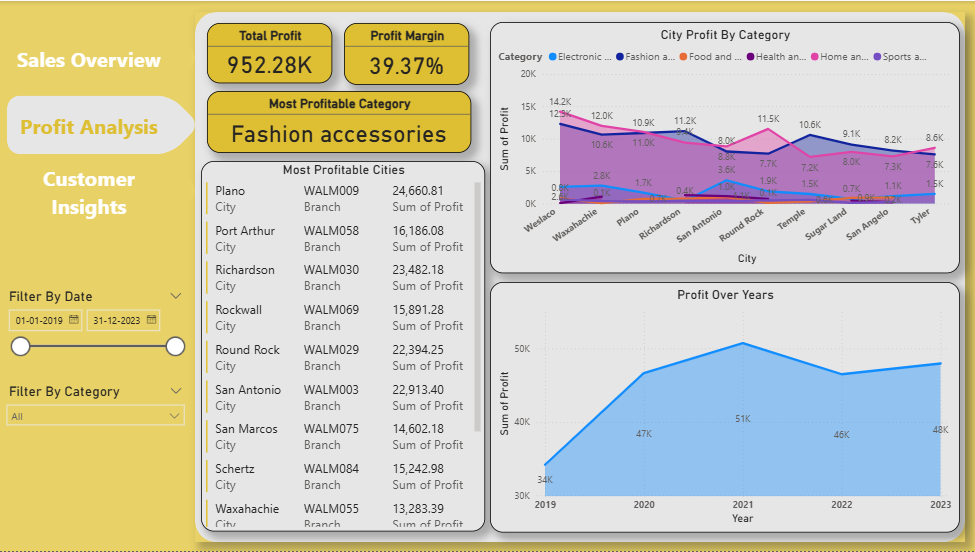

The dashboard page shown, as its layout file describes it:
{"tool":"powerbi","page":{"name":"Profit Analysis","canvas":[1280,720],"ordinal":1},"visuals":[{"type":"shape","box":[256.3,14.4,1008,694.1],"z":0},{"type":"card","title":"Total Profit","fields":{"Values":["Sum(walmart_db walmart_pro.Profit)"]},"box":[271.7,28.6,164,78.7],"z":1000},{"type":"card","title":"Profit Margin","fields":{"Values":["Avg(walmart_db walmart_pro.profit_margin)"]},"box":[452.2,28.8,164,80.6],"z":2000},{"type":"card","title":"Most Profitable Category","fields":{"Values":["Min(walmart_db walmart_pro.category)"]},"box":[272.2,118.1,345.6,80.6],"z":3000},{"type":"multiRowCard","title":"Most Profitable Cities","fields":{"Values":["walmart_db walmart_pro.City","walmart_db walmart_pro.Branch","Sum(walmart_db walmart_pro.Profit)"]},"box":[265,208.8,372,485.3],"z":4000},{"type":"areaChart","title":"City Profit By Category","fields":{"Y":["Sum(walmart_db walmart_pro.Profit)"],"Series":["walmart_db walmart_pro.category"],"Category":["walmart_db walmart_pro.City"]},"box":[642.2,27.4,614.9,329],"z":5000},{"type":"pageNavigator","box":[10.7,37.1,253.9,252],"z":6000},{"type":"slicer","fields":{"Values":["walmart_db walmart_pro.date"]},"box":[4.3,372.5,246.2,145.4],"z":7000},{"type":"slicer","fields":{"Values":["walmart_db walmart_pro.category"]},"box":[3.6,497.3,246.7,75.1],"z":8000},{"type":"stackedAreaChart","title":"Profit Over Years","fields":{"Category":["walmart_db walmart_pro.year"],"Y":["Sum(walmart_db walmart_pro.Profit)"]},"box":[642.2,367.2,614.9,328.3],"z":9000}]}

Visuals, with their boxes in screenshot pixels (x1, y1, x2, y2), scaled from the page's 1280x720 canvas onto the 975x552 screenshot:
shape: 195,11,963,543
"Total Profit" card: 207,22,332,82
"Profit Margin" card: 344,22,469,84
"Most Profitable Category" card: 207,91,471,152
"Most Profitable Cities" multiRowCard: 202,160,485,532
"City Profit By Category" areaChart: 489,21,958,273
pageNavigator: 8,28,202,222
slicer - walmart_db walmart_pro.date: 3,286,191,397
slicer - walmart_db walmart_pro.category: 3,381,191,439
"Profit Over Years" stackedAreaChart: 489,282,958,533
